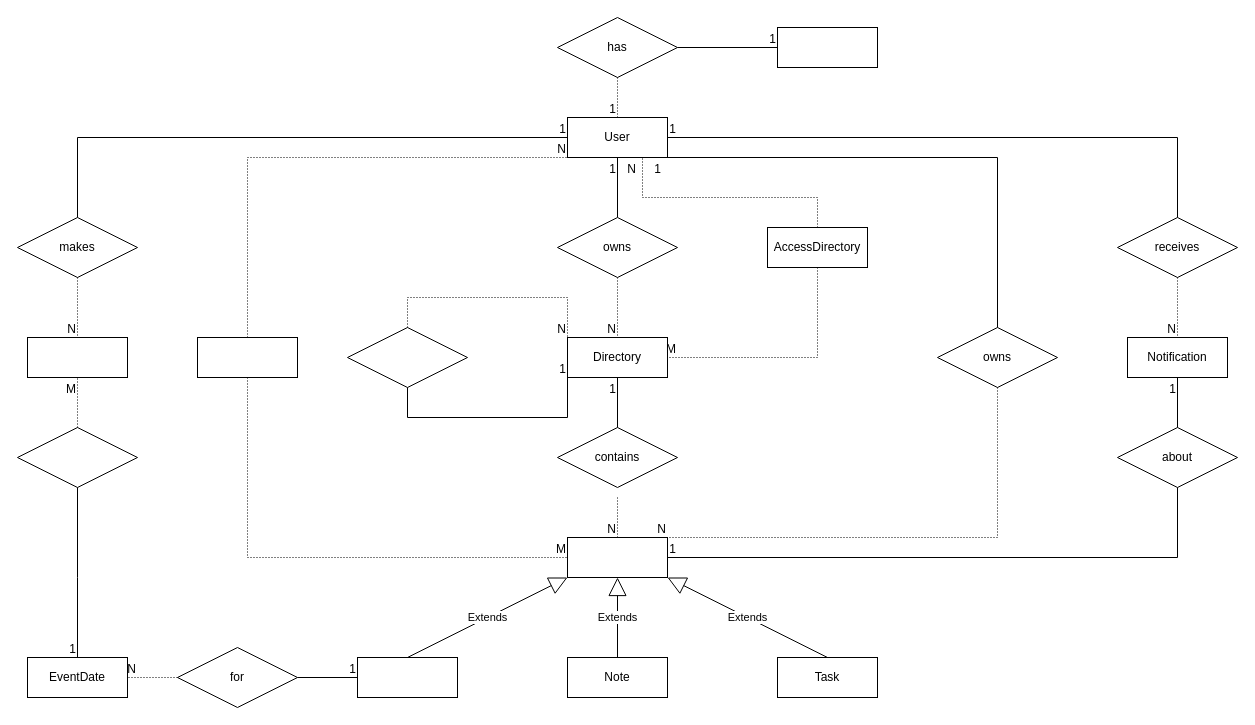
Some shapes in this 1255 by 725 pixel diagram are drawn without their labels. The shapes that lost their labels are listed below. From the top down, each one's centre as x and y in pixels, then its label:
At (x=827, y=47): "RefreshToken".
At (x=77, y=357): "Vote".
At (x=247, y=357): "AccessFile".
At (x=407, y=357): "is parent of".
At (x=77, y=457): "on".
At (x=617, y=557): "File".
At (x=407, y=677): "Event".
